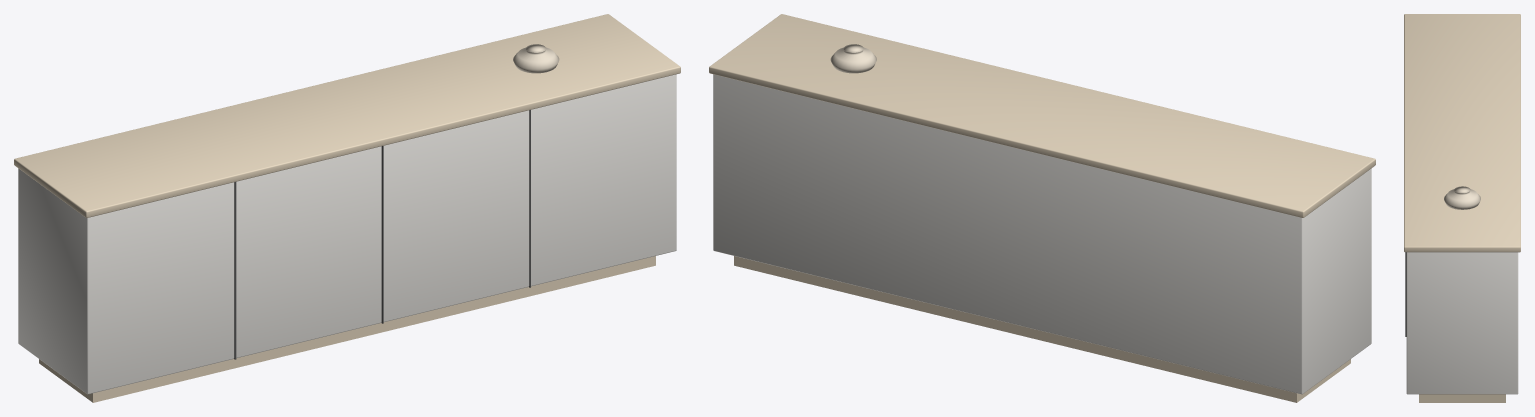
File: mo_sideboard.glb
The picture shows the model from 3 angles, left to right: view 1: azimuth 30°, elevation 25°; view 2: azimuth 150°, elevation 25°; view 3: azimuth 270°, elevation 25°; orthographic projection. The views are drawn at different scales.
Visible parts, largest first — view 1: body, top, plinth, vase; view 2: body, top, plinth, vase; view 3: top, body, plinth, vase, gap3.
Boxes of the visible parts, x1,y1,x2,y2 form: body: (18,74,676,394); top: (14,14,680,217); plinth: (39,256,655,402); vase: (513,44,559,73); body: (713,74,1371,394); top: (709,14,1375,217); plinth: (734,256,1350,402); vase: (830,44,876,73); top: (1404,14,1520,252); body: (1406,252,1518,394); plinth: (1419,394,1505,402); vase: (1444,186,1480,209); gap3: (1405,252,1406,336).
Size of the model in its own units: 2.22 by 0.785 by 0.47.
